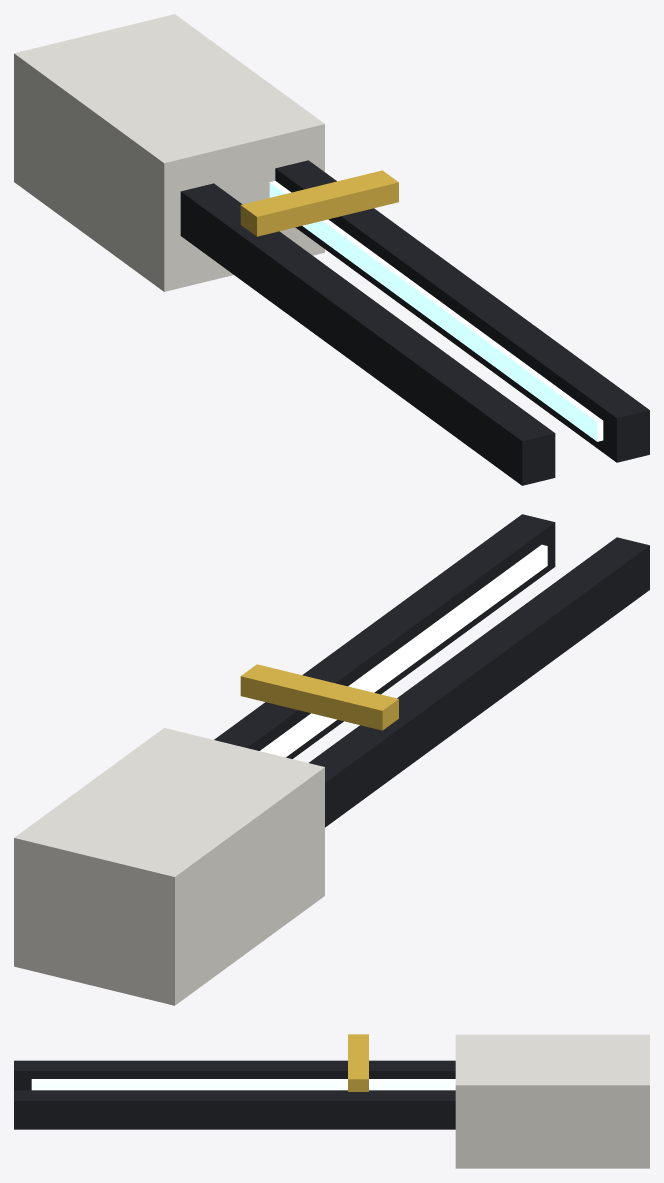
The model's file is wpn_omega_buster.glb.
The picture shows the model from 3 angles, top to bottom: view 1: azimuth 30°, elevation 25°; view 2: azimuth 150°, elevation 25°; view 3: azimuth 270°, elevation 25°; orthographic projection. The views are drawn at different scales.
Parts seen in each view (by area): view 1: weapon; view 2: weapon; view 3: weapon.
Part boxes in pixels (x1,y1,x2,y2): weapon: (14,14,649,485); weapon: (14,514,649,1005); weapon: (14,1034,649,1168).
Size of the model in its own units: 0.34 by 0.27 by 1.8.
